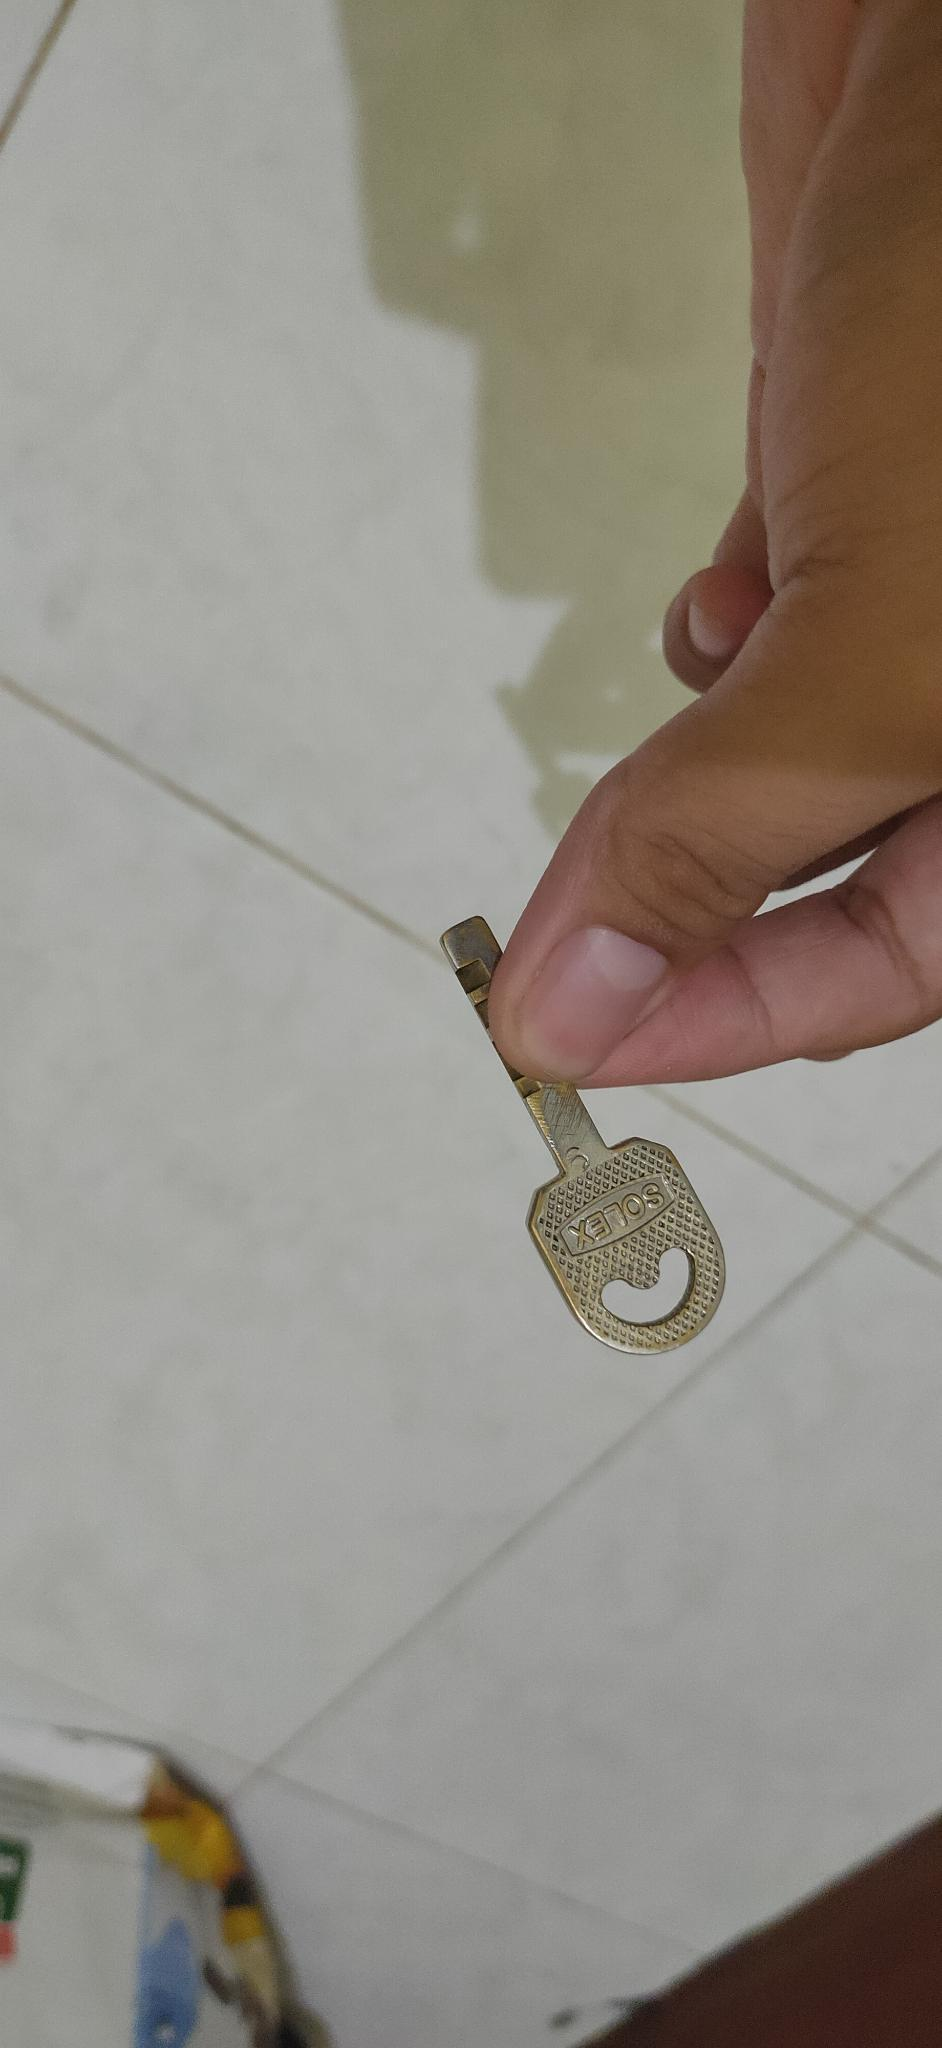keys: (414, 906, 756, 1382)
